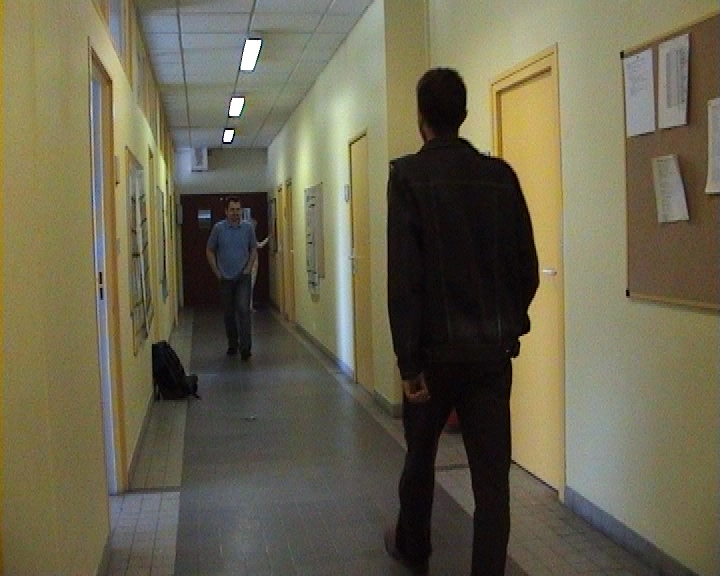leave bag unattended: (132, 324, 209, 415)
